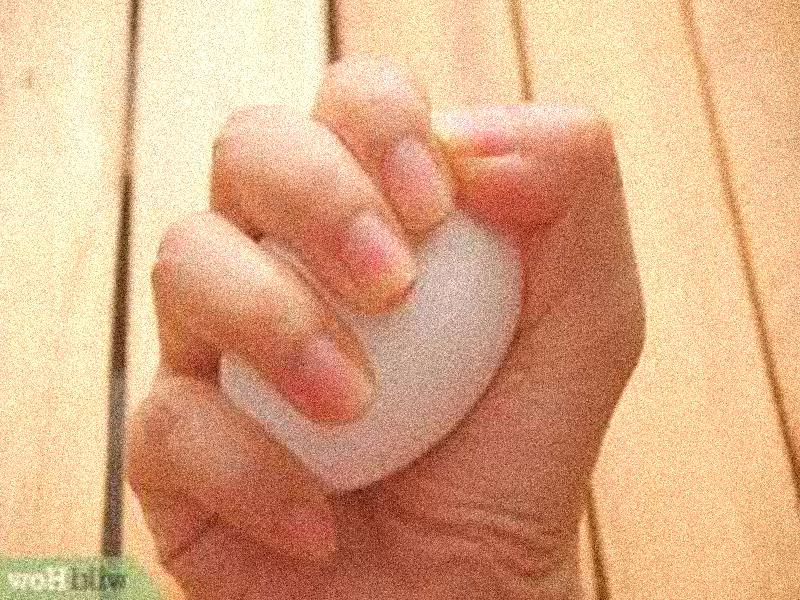Eggs: (214, 177, 523, 492)
